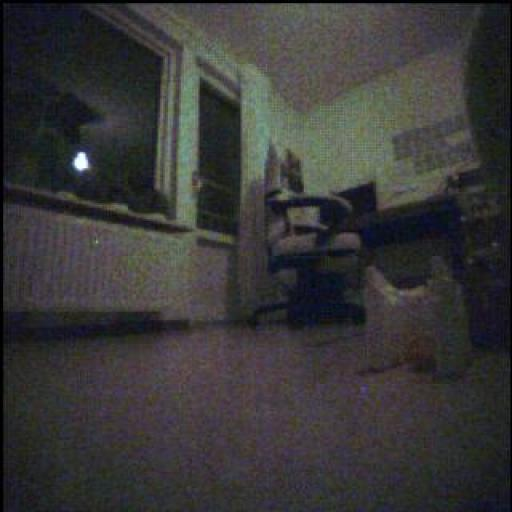basket: (406, 332, 438, 378)
